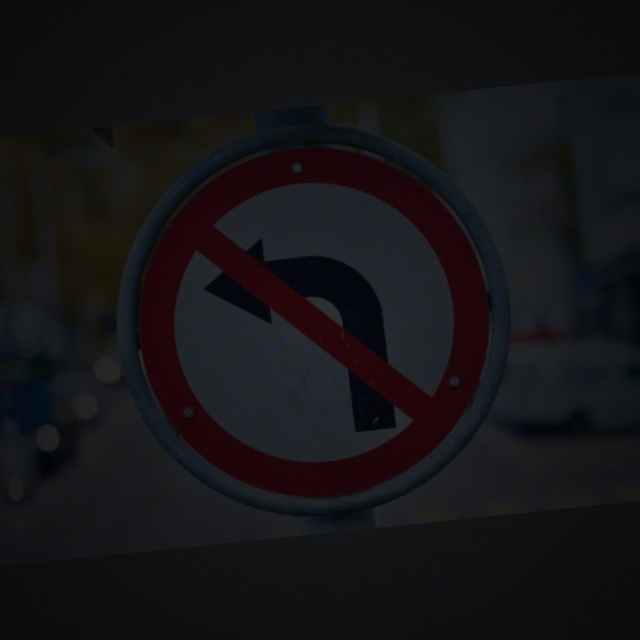Left_Turn_Prohibited: (100, 107, 528, 526)
